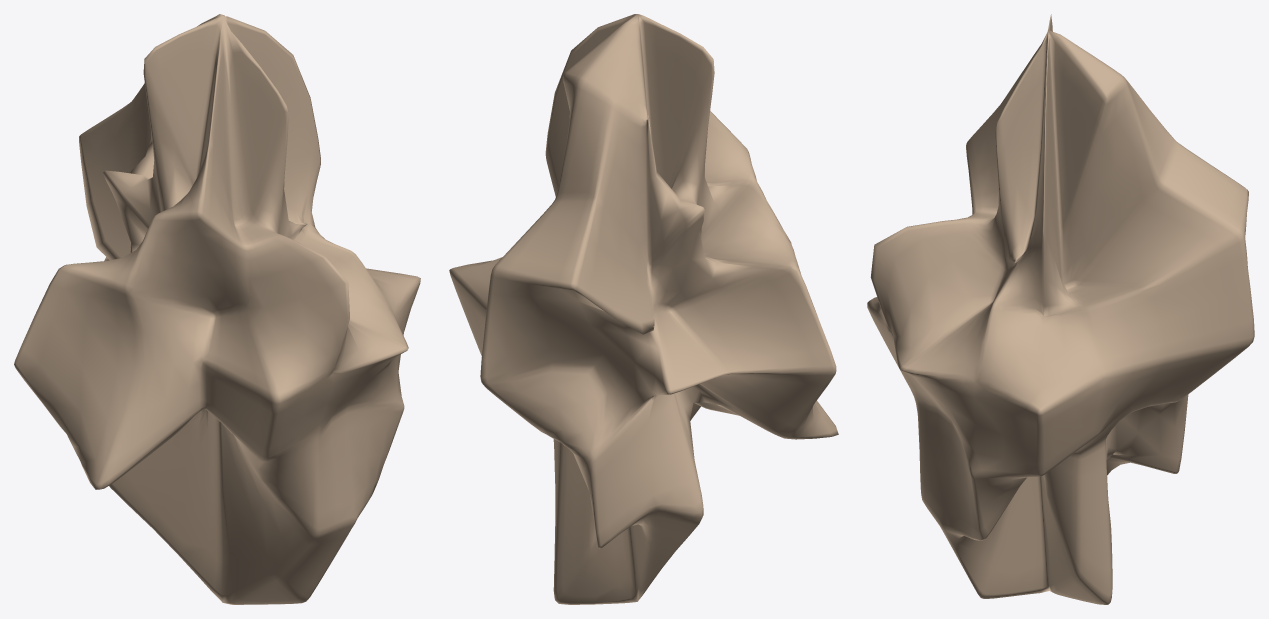
Rendered from PROP_PineCone_v1.glb.
The picture shows the model from 3 angles, left to right: view 1: azimuth 30°, elevation 25°; view 2: azimuth 150°, elevation 25°; view 3: azimuth 270°, elevation 25°; orthographic projection. The views are drawn at different scales.
Visible parts, largest first — view 1: PROP_PineCone_v1; view 2: PROP_PineCone_v1; view 3: PROP_PineCone_v1.
Part boxes in pixels (bbox=[...]): PROP_PineCone_v1: bbox=[14, 14, 420, 604]; PROP_PineCone_v1: bbox=[449, 14, 838, 604]; PROP_PineCone_v1: bbox=[867, 14, 1254, 604].
Size of the model in its own units: 0.5463 by 0.7721 by 0.4836.
